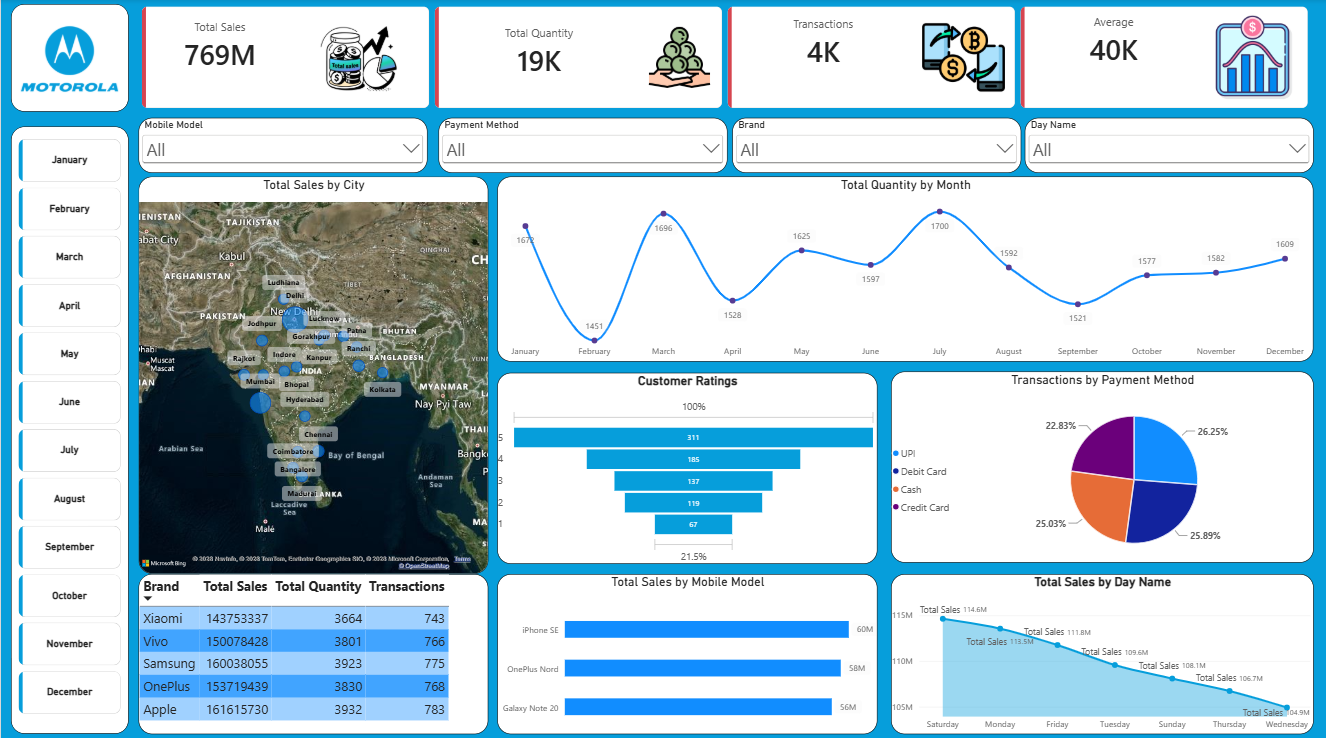

This screenshot's page, from the dashboard's own definition file:
{"tool":"powerbi","page":{"name":"Page 1","canvas":[1920,1080],"ordinal":0},"visuals":[{"type":"shape","box":[14.5,7.2,170.1,155.6],"z":0},{"type":"image","box":[14.5,10.9,170.1,152],"z":1000},{"type":"shape","box":[14.5,184.6,170.1,879.5],"z":2000},{"type":"advancedSlicerVisual","fields":{"Values":["Sales_Data.Date.Variation.Date Hierarchy.Month"]},"box":[25.3,202.7,148.4,843.3],"z":3000},{"type":"cardVisual","fields":{"Data":["Sales_Data.Total Sales","Sales_Data.Total Quantity","Sales_Data.Transactions","Sales_Data.Average"]},"box":[199.1,10.9,1701.1,152],"z":4000},{"type":"lineChart","fields":{"Category":["Sales_Data.Date.Variation.Date Hierarchy.Month","Sales_Data.Date.Variation.Date Hierarchy.Day"],"Y":["Sales_Data.Total Quantity"]},"box":[718.4,257,1181.7,267.8],"z":5000},{"type":"map","fields":{"Category":["Sales_Data.City"],"Size":["Sales_Data.Total Sales"]},"box":[199.1,257,506.7,575.5],"z":6000},{"type":"clusteredBarChart","fields":{"Category":["Sales_Data.Mobile Model"],"Y":["Sales_Data.Total Sales"]},"box":[718.4,832.4,550.1,231.6],"z":7000},{"type":"pieChart","fields":{"Category":["Sales_Data.Payment Method"],"Y":["Sales_Data.Transactions"]},"box":[1288.5,539.3,611.7,276.9],"z":8000},{"type":"funnel","title":"Customer Ratings","fields":{"Category":["Sales_Data.Customer Ratings"],"Y":["CountNonNull(Sales_Data.Customer Ratings)"]},"box":[718.4,541.1,550.1,276.9],"z":9000},{"type":"areaChart","fields":{"Category":["Sales_Data.Day Name"],"Y":["Sales_Data.Total Sales"]},"box":[1288.5,832.4,611.7,231.6],"z":10000},{"type":"tableEx","fields":{"Values":["Sales_Data.Brand","Sales_Data.Total Sales","Sales_Data.Total Quantity","Sales_Data.Transactions"]},"box":[199.1,832.4,506.7,231.6],"z":11000},{"type":"slicer","fields":{"Values":["Sales_Data.Mobile Model"]},"box":[199.1,171.9,418,79.6],"z":12000},{"type":"slicer","fields":{"Values":["Sales_Data.Payment Method"]},"box":[633.4,171.9,418,79.6],"z":13000},{"type":"slicer","fields":{"Values":["Sales_Data.Brand"]},"box":[1058.7,171.9,418,79.6],"z":14000},{"type":"slicer","fields":{"Values":["Sales_Data.Day Name"]},"box":[1482.1,171.9,418,79.6],"z":15000}]}

Visuals, with their boxes in screenshot pixels (x1, y1, x2, y2), scaled from the page's 1920x1080 canvas onto the 1326x738 screenshot:
shape: 10 5 127 111
image: 10 7 127 111
shape: 10 126 127 727
advancedSlicerVisual - Sales_Data.Date.Variation.Date Hierarchy.Month: 17 139 120 715
cardVisual - Sales_Data.Total Sales x Sales_Data.Total Quantity: 138 7 1312 111
lineChart - Sales_Data.Date.Variation.Date Hierarchy.Month x Sales_Data.Date.Variation.Date Hierarchy.Day: 496 176 1312 359
map - Sales_Data.City x Sales_Data.Total Sales: 138 176 487 569
clusteredBarChart - Sales_Data.Mobile Model x Sales_Data.Total Sales: 496 569 876 727
pieChart - Sales_Data.Payment Method x Sales_Data.Transactions: 890 369 1312 558
"Customer Ratings" funnel: 496 370 876 559
areaChart - Sales_Data.Day Name x Sales_Data.Total Sales: 890 569 1312 727
tableEx - Sales_Data.Brand x Sales_Data.Total Sales: 138 569 487 727
slicer - Sales_Data.Mobile Model: 138 117 426 172
slicer - Sales_Data.Payment Method: 437 117 726 172
slicer - Sales_Data.Brand: 731 117 1020 172
slicer - Sales_Data.Day Name: 1024 117 1312 172
